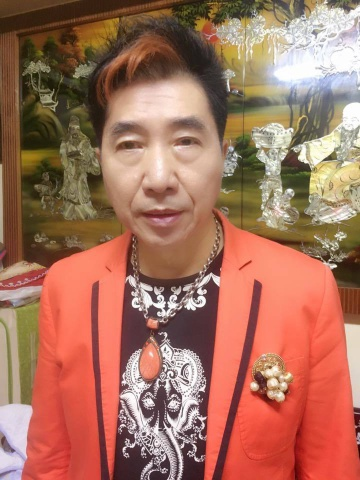male: (72, 17, 264, 269)
